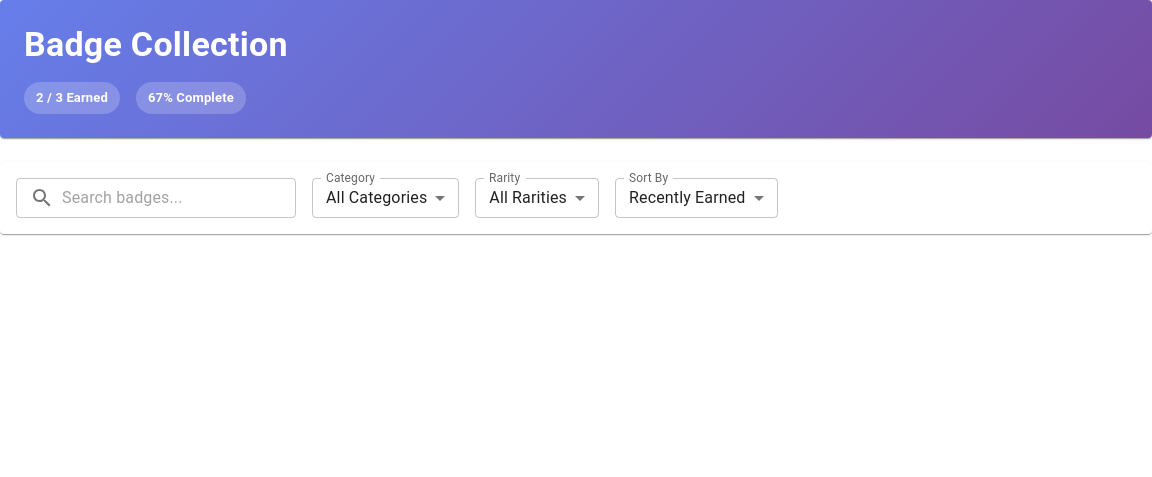
Test: BadgeCollection › shows empty state when no badges match filters
The width and height of the screenshot is (1152, 477).
Type "nonexistent" into the field with placeholder "Search badges..." at (179, 198), box [62, 178, 296, 218]
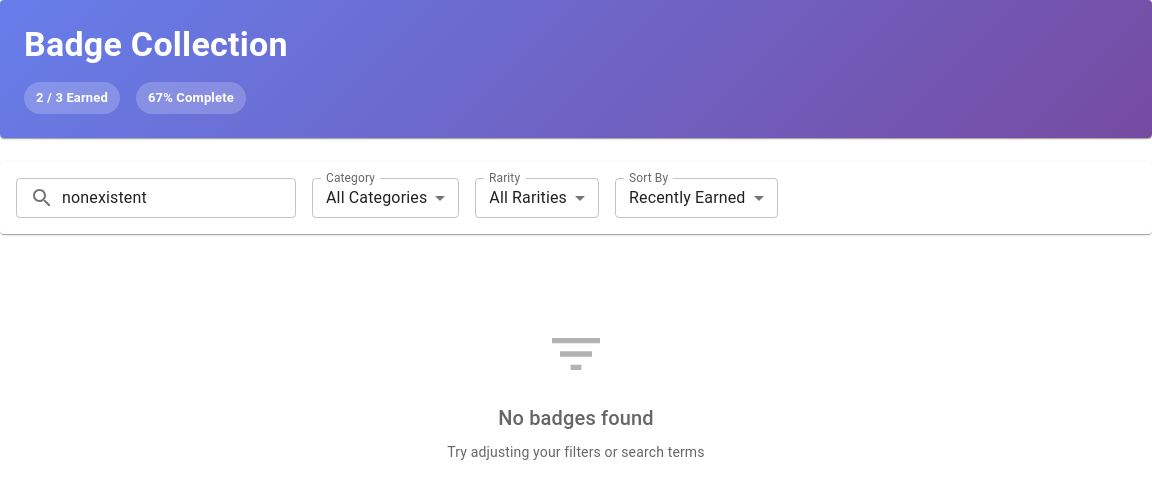
Expected: the heading "No badges found" is shown, [498, 406, 654, 430]
Expected: the text "Try adjusting your filters or search terms" is shown, [447, 444, 705, 460]
